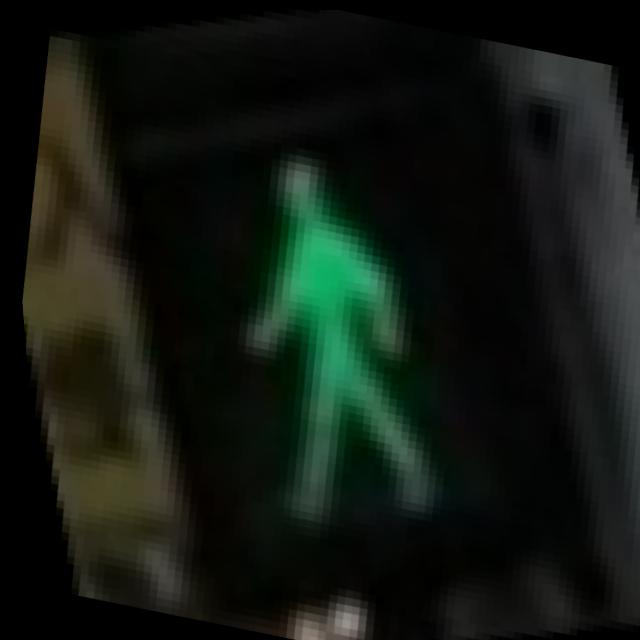green_light: (20, 29, 632, 640)
